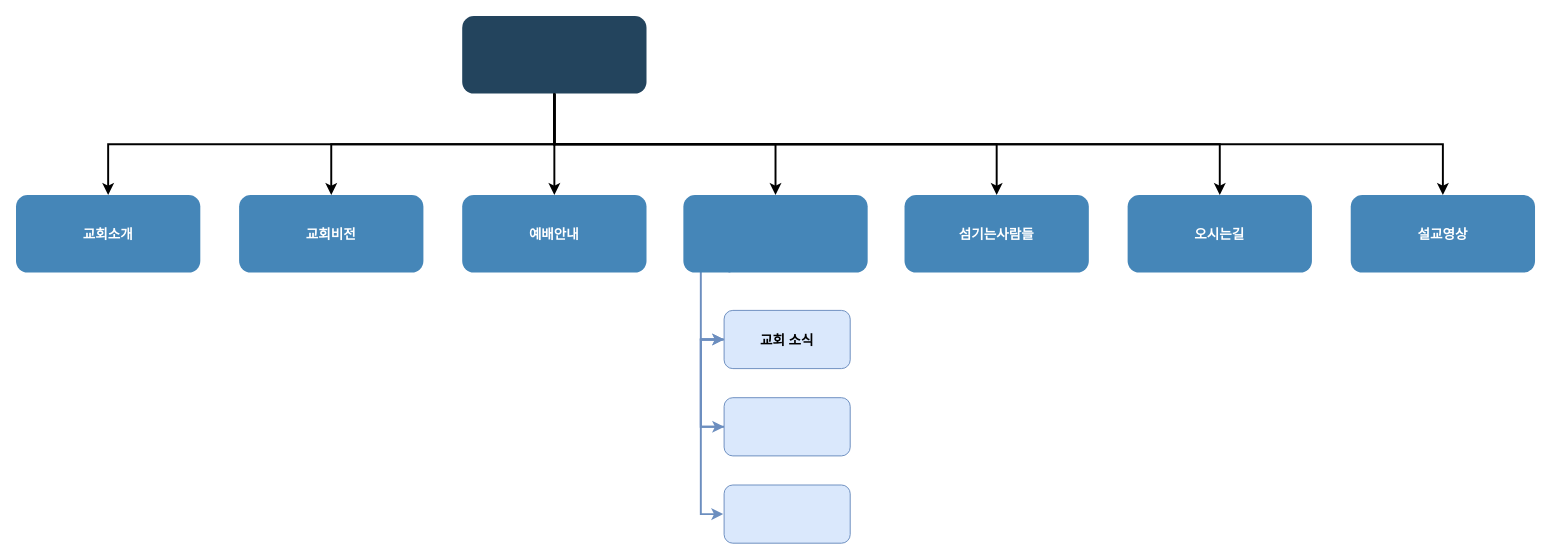
The diagram is 1551 pixels wide and 559 high, and some of its shapes have lost their labels. Each missing label, with the box of its shape:
Home: (462, 16, 646, 93)
갤러리: (723, 484, 850, 543)
교회소식: (683, 194, 867, 272)
주보: (723, 397, 850, 456)
